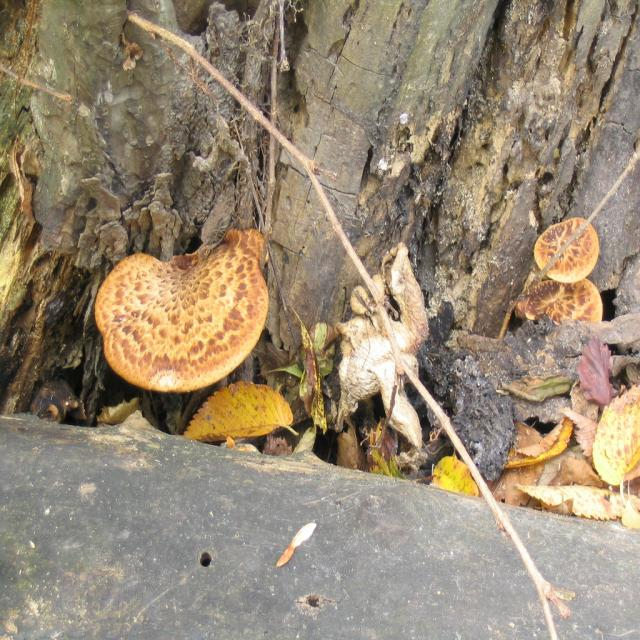Mushroom: (92, 229, 268, 396), (534, 216, 599, 281), (525, 280, 605, 324)
